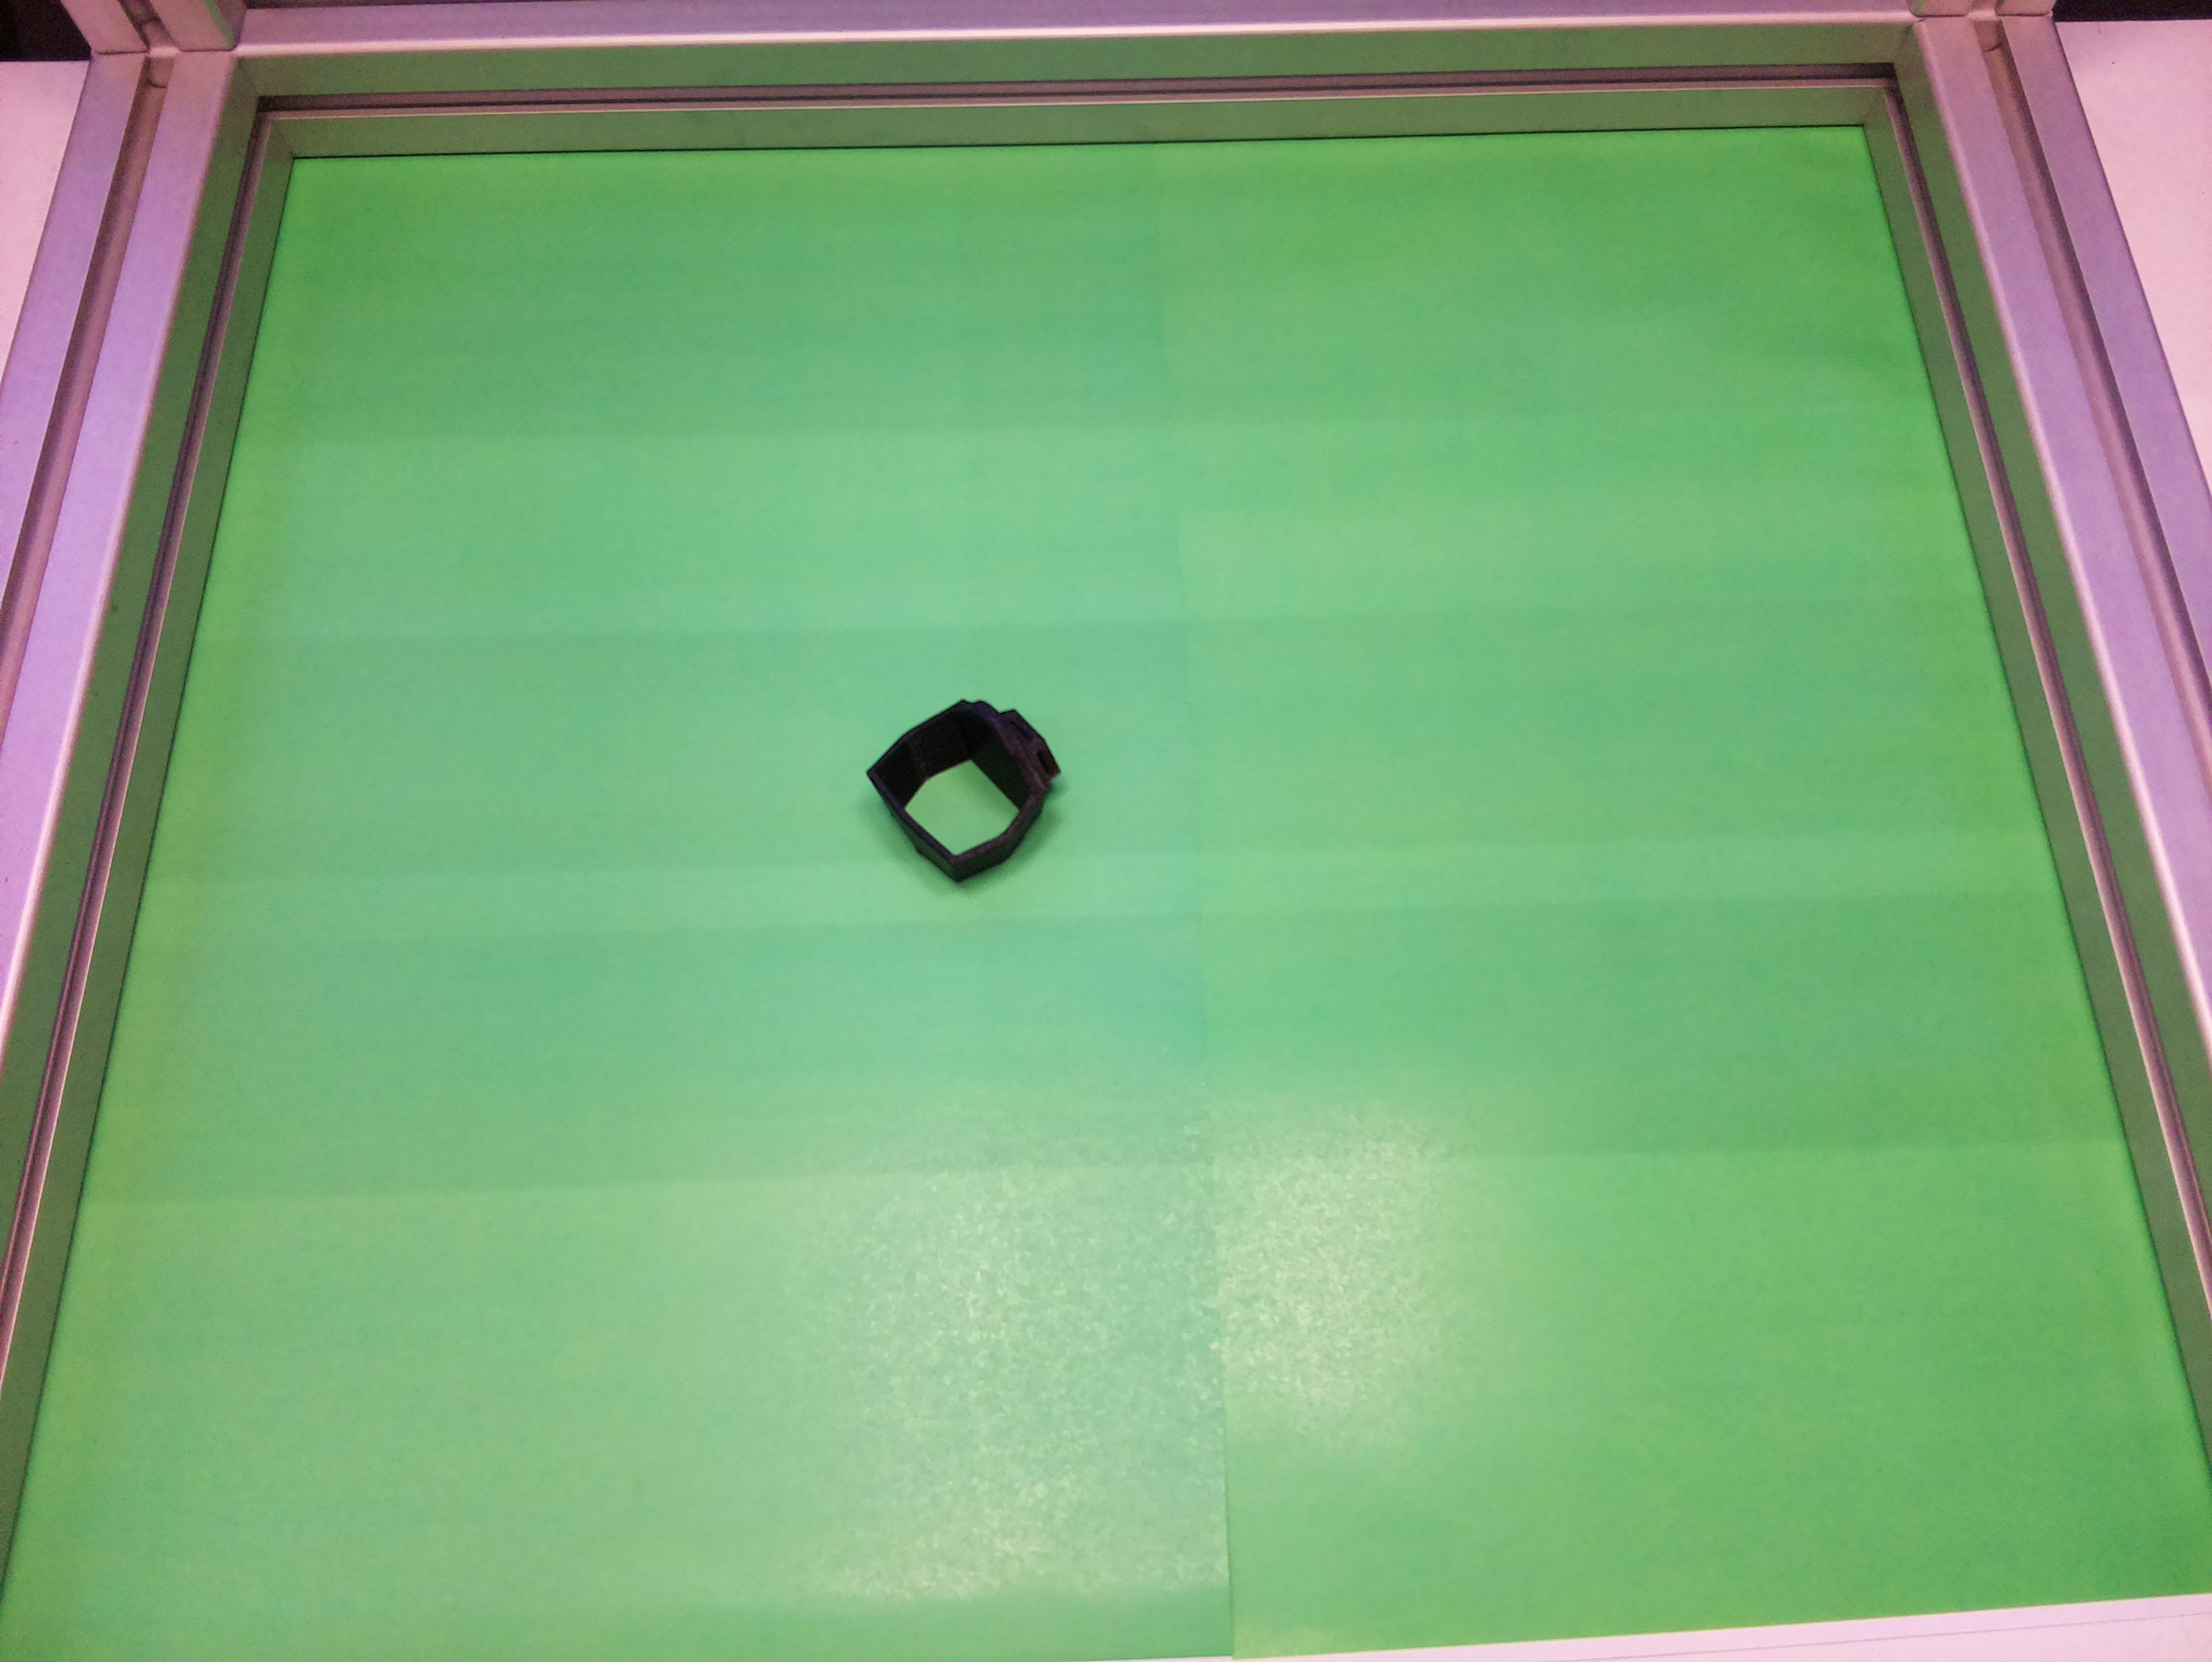scissor_holder: (855, 669, 1089, 901)
